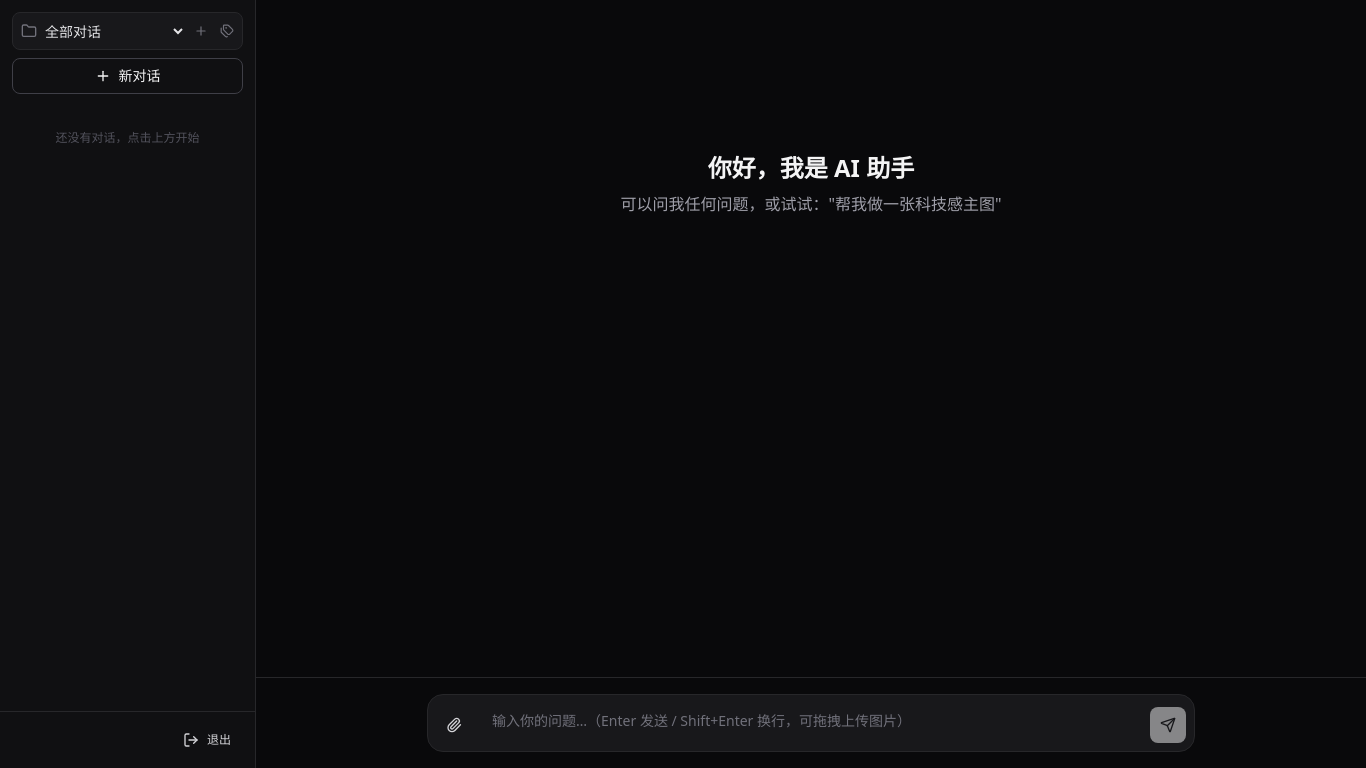
it: 对话 PROVIDER_UNAVAILABLE 呈现（M13+ 模型配置页） › SSE error(PROVIDER_UNAVAILABLE) → 模型配置引导；无 p.text-red-400（可恢复配置态，非页面错误）
The image size is (1366, 768).
Expected: the button "新对话" is shown, [12,58,243,94]
Type "帮我干活" into the text box with placeholder "输入你的问题…（Enter 发送 / Shift+Enter 换行，可拖拽上传图片）".
click(811, 723); type("帮我干活")  # box [480,703,1142,743]
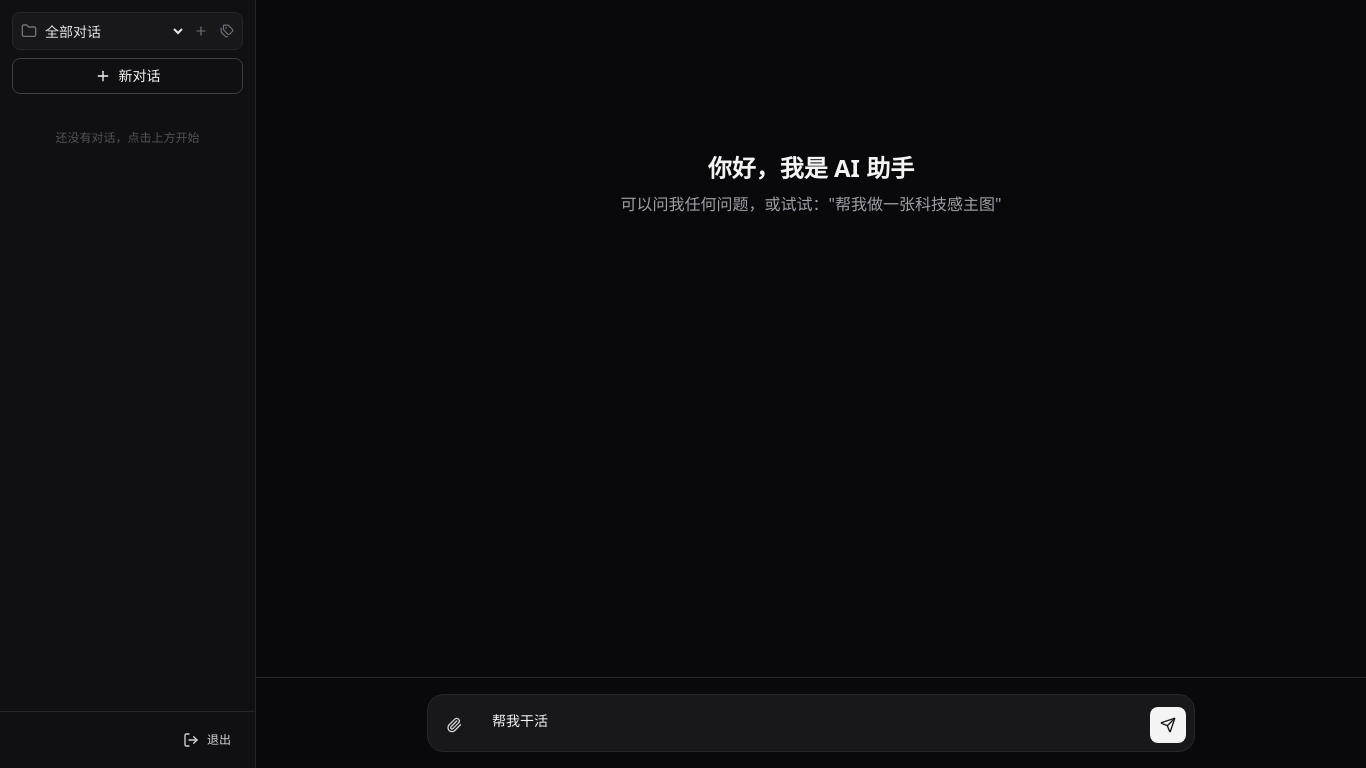
Click the button titled "发送".
click(1168, 725)  # box [1150,707,1186,743]
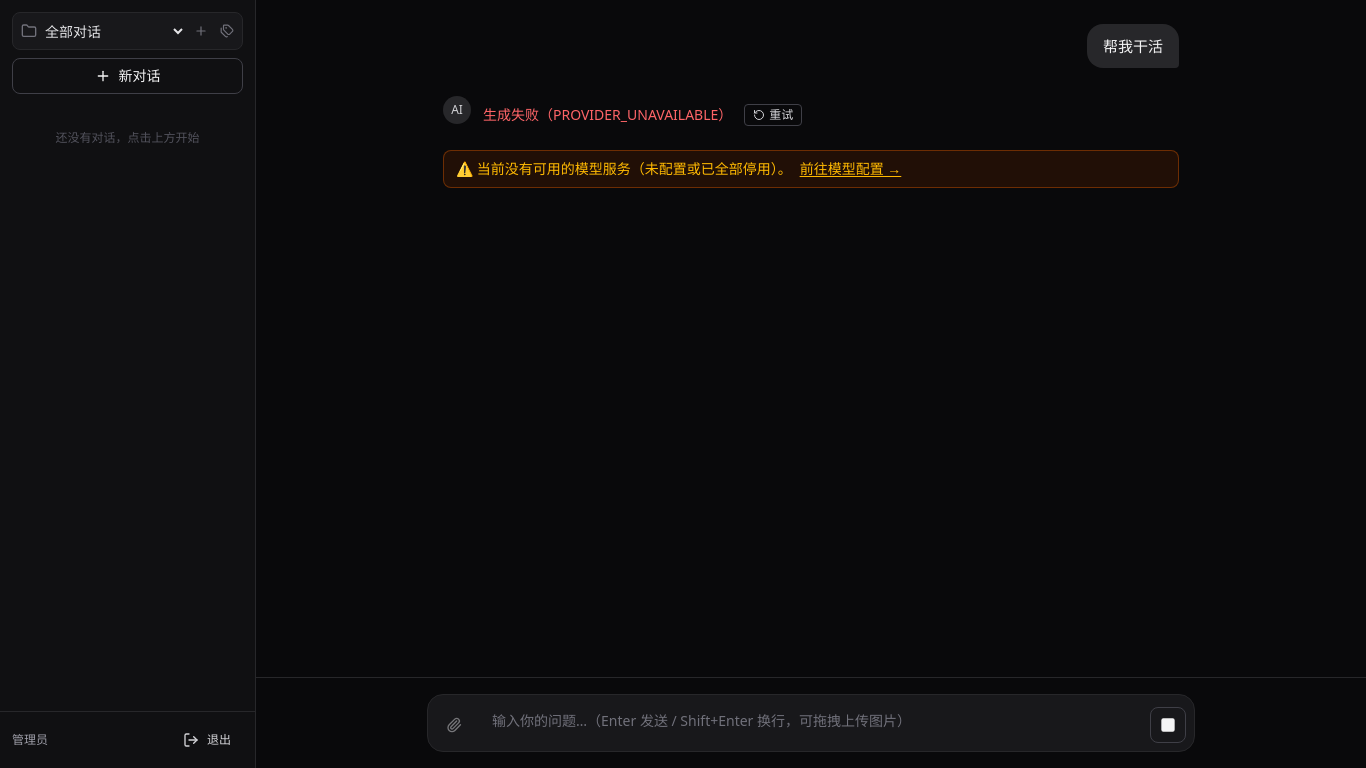
Now the element with test id "provider-unavailable-hint" shows "当前没有可用的模型服务", box [456,159,792,178]
